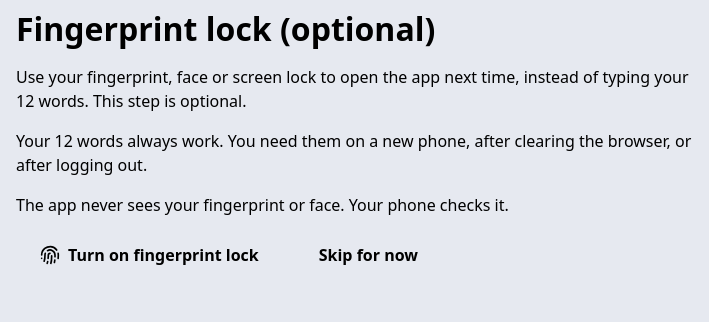
Scenario: FingerprintScreen: turning on › an unexpected exception is treated as a failure, never a crash
This screenshot has width=709, height=322.
Click the button "Turn on fingerprint lock" at (149, 255), box [16,233,283,277]
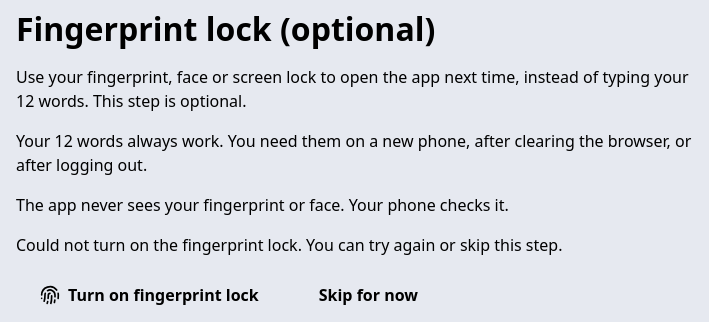
Now the message reads "Could not turn on the fingerprint lock. You can try again or skip this step.", box [16,234,562,256]
